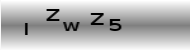5: (108, 18, 121, 32)
Z: (44, 7, 60, 22), (88, 11, 104, 26)
l: (22, 20, 29, 36)
w: (61, 20, 79, 31)
